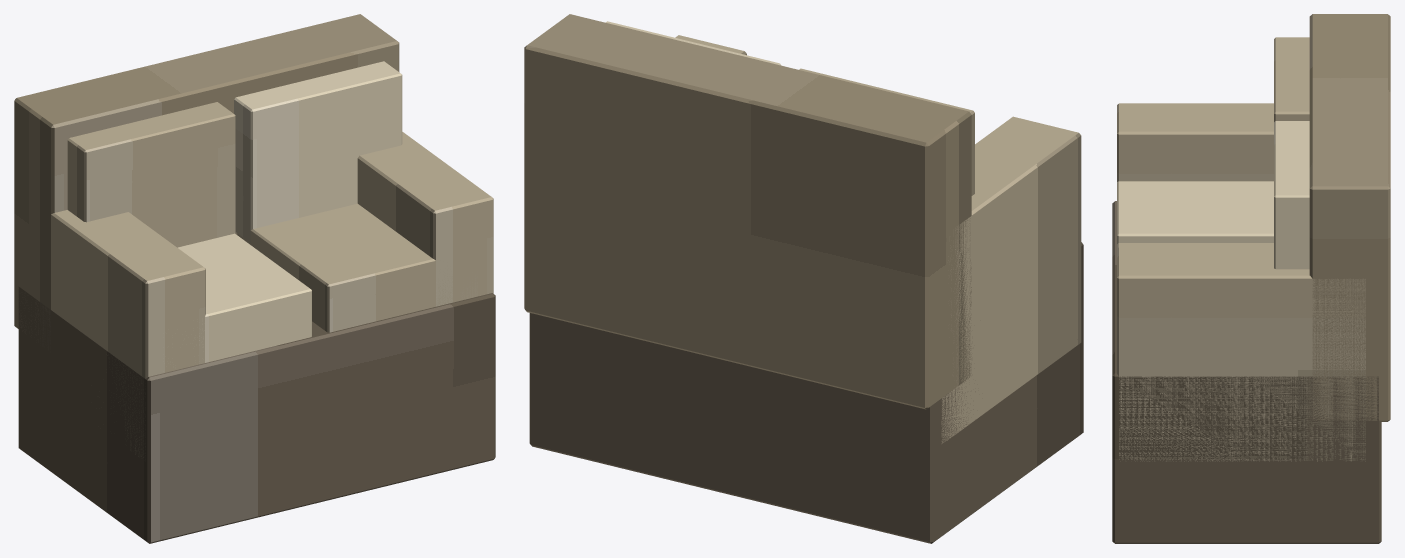
Rendered from lounge_couch_ivory.glb.
The picture shows the model from 3 angles, left to right: view 1: azimuth 30°, elevation 25°; view 2: azimuth 150°, elevation 25°; view 3: azimuth 270°, elevation 25°; orthographic projection. The views are drawn at different scales.
Parts seen in each view (by area): view 1: CouchBase, CouchBack, BackCushion_2, CouchArm_L, BackCushion_1, SeatCushion_2, CouchArm_R, SeatCushion_1; view 2: CouchBack, CouchBase, CouchArm_L, BackCushion_1; view 3: CouchBase, CouchArm_R, CouchBack, CouchArm_L, SeatCushion_1, BackCushion_2, BackCushion_1, SeatCushion_2.
Boxes of the visible parts, <box> form: CouchBase: <box>18,286,495,543</box>; CouchBack: <box>14,14,399,349</box>; BackCushion_2: <box>234,61,402,242</box>; CouchArm_L: <box>51,210,205,459</box>; BackCushion_1: <box>67,102,235,247</box>; SeatCushion_2: <box>237,203,477,332</box>; CouchArm_R: <box>357,132,493,306</box>; SeatCushion_1: <box>178,233,311,362</box>; CouchBack: <box>524,14,971,409</box>; CouchBase: <box>529,242,1083,543</box>; CouchArm_L: <box>941,116,1081,443</box>; BackCushion_1: <box>799,68,974,195</box>; CouchBase: <box>1112,201,1381,543</box>; CouchArm_R: <box>1117,247,1365,461</box>; CouchBack: <box>1309,14,1390,421</box>; CouchArm_L: <box>1117,103,1273,181</box>; SeatCushion_1: <box>1117,181,1273,243</box>; BackCushion_2: <box>1274,121,1309,269</box>; BackCushion_1: <box>1274,37,1309,121</box>; SeatCushion_2: <box>1117,243,1273,248</box>.
Size of the model in its own units: 0.92 by 0.91 by 0.62.
1 material, 1 textured.
